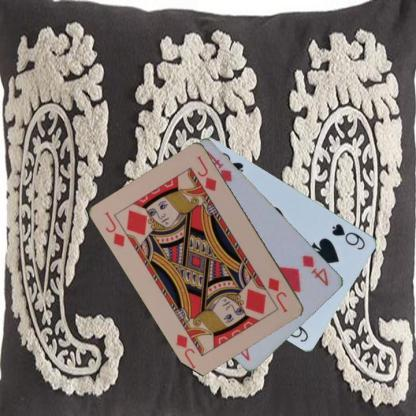4d: (300, 252, 330, 288)
6s: (329, 221, 367, 251)
Jd: (265, 274, 290, 314), (102, 209, 127, 249)
